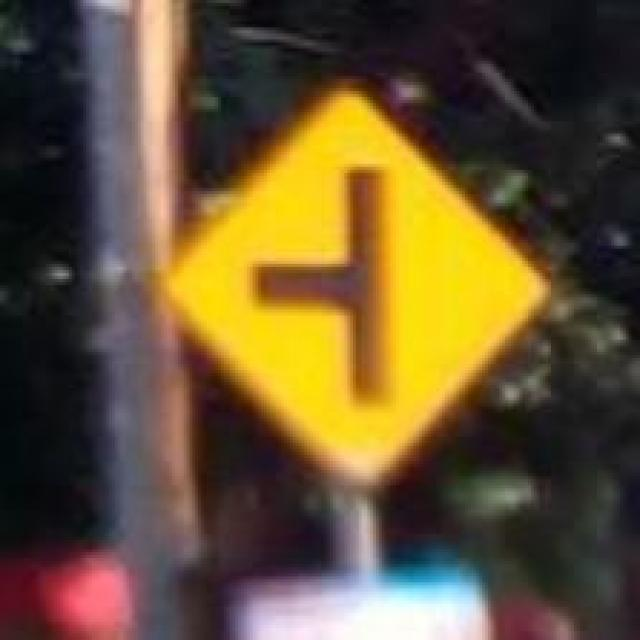traffic sign: (187, 97, 540, 485)
